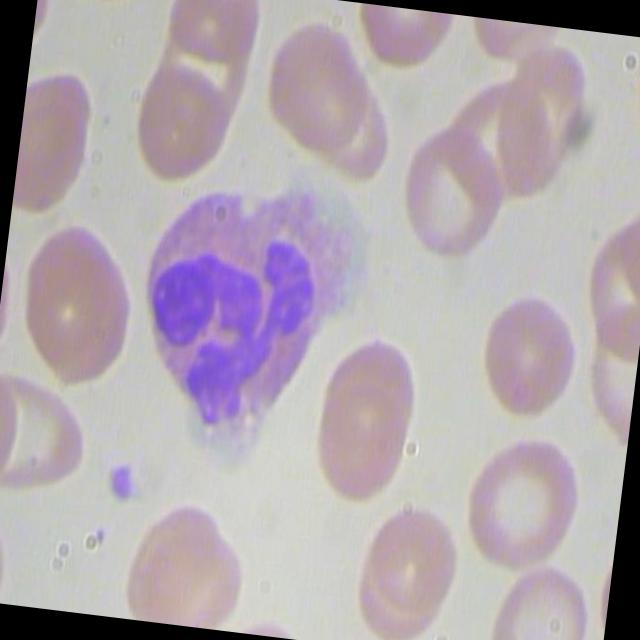Platelets: (95, 452, 147, 517)
RBC: (384, 116, 514, 270), (458, 422, 588, 575), (467, 279, 594, 416), (292, 366, 415, 504), (302, 331, 424, 468), (12, 218, 118, 366), (32, 237, 136, 385), (254, 10, 364, 144), (360, 495, 470, 628), (128, 49, 237, 182), (126, 496, 234, 628)
WBC: (100, 163, 387, 474)
